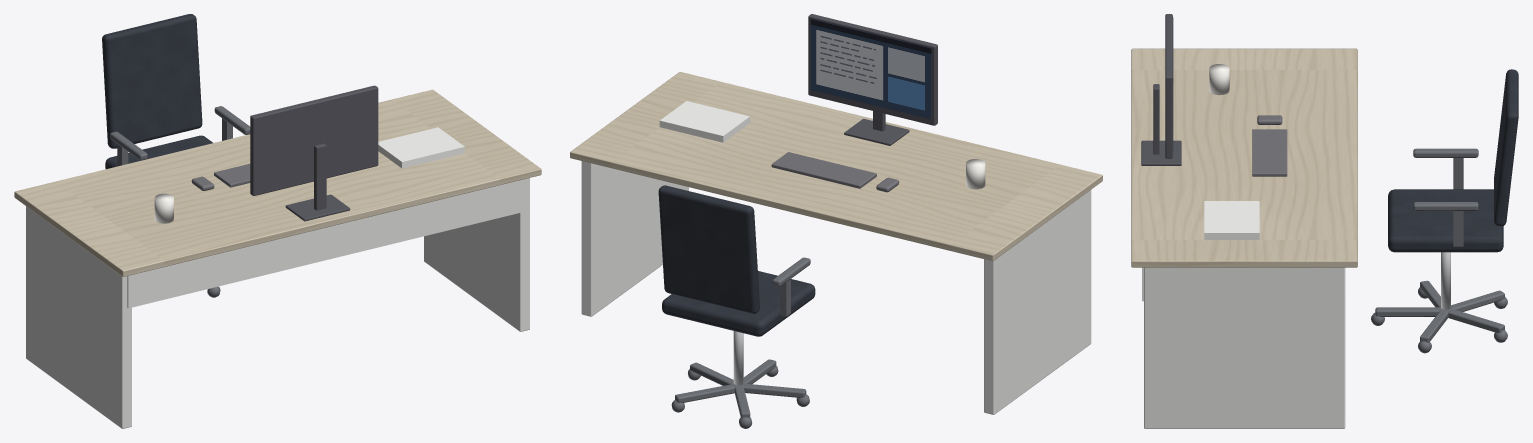
File: oficina.escritorio.fbx
The picture shows the model from 3 angles, left to right: view 1: azimuth 30°, elevation 25°; view 2: azimuth 150°, elevation 25°; view 3: azimuth 270°, elevation 25°; orthographic projection. The views are drawn at different scales.
Parts seen in each view (by area): view 1: Cubierta, Pata.001, Faldon, Respaldo, Monitor, Pata, Papeles, Asiento, Base del monitor, Brazo del monitor, Teclado, Tazon; view 2: Cubierta, Pata.001, Respaldo, Pata, Pantalla, Asiento, Papeles, Monitor, Teclado, Base del monitor, Pata de la silla, Pata de la silla.003 (+2 smaller); view 3: Cubierta, Pata, Asiento, Respaldo, Papeles, Teclado, Monitor, Base del monitor, Apoyabrazos.001, Pata de la silla.001, Tazon, Pata de la silla.003 (+6 smaller).
Part boxes in pixels (x1,y1,x2,y2): Cubierta: (14, 89, 541, 276); Pata.001: (26, 206, 131, 428); Faldon: (127, 179, 526, 308); Respaldo: (102, 14, 202, 148); Monitor: (250, 85, 378, 195); Pata: (424, 178, 529, 331); Papeles: (378, 127, 464, 168); Asiento: (105, 135, 212, 169); Base del monitor: (285, 194, 350, 221); Brazo del monitor: (314, 143, 326, 210); Teclado: (214, 163, 250, 187); Tazon: (154, 193, 173, 223); Cubierta: (570, 72, 1102, 261); Pata.001: (984, 190, 1091, 414); Respaldo: (658, 185, 759, 313); Pata: (581, 161, 688, 316); Pantalla: (810, 19, 931, 119); Asiento: (662, 271, 815, 336); Papeles: (659, 101, 750, 142); Monitor: (808, 14, 937, 125); Teclado: (771, 152, 876, 188); Base del monitor: (844, 118, 909, 145); Pata de la silla: (740, 383, 806, 397); Pata de la silla.003: (675, 384, 736, 403); Cubierta: (1131, 48, 1357, 267); Pata: (1144, 267, 1345, 428); Asiento: (1388, 189, 1503, 252); Respaldo: (1494, 69, 1518, 226); Papeles: (1204, 201, 1259, 239); Teclado: (1252, 129, 1287, 176); Monitor: (1165, 14, 1172, 158); Base del monitor: (1141, 140, 1181, 165); Apoyabrazos.001: (1413, 148, 1478, 157); Pata de la silla.001: (1375, 307, 1443, 316); Tazon: (1209, 64, 1229, 95); Pata de la silla.003: (1447, 308, 1504, 332).
Size of the model in its own units: 2 by 1.23 by 1.54.
Materials: 11 (3 with a texture image).
